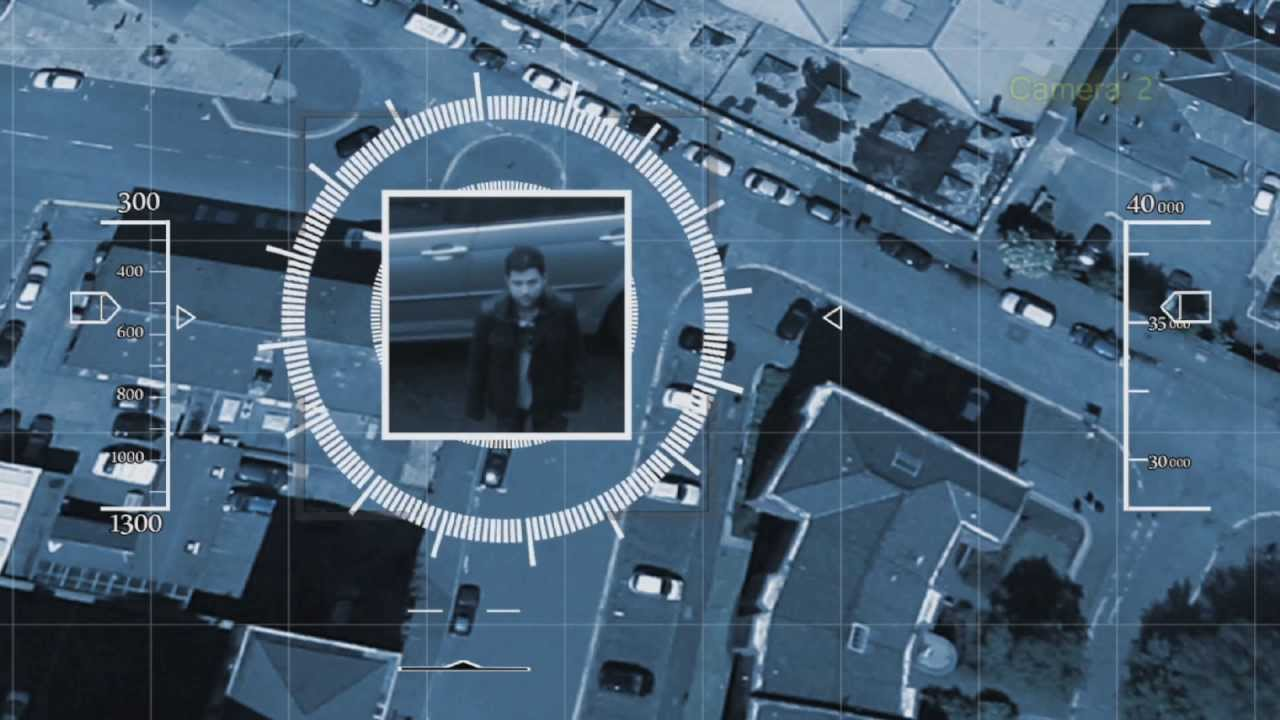car: (401, 17, 761, 117), (621, 560, 712, 608), (444, 578, 489, 652)
person: (455, 240, 601, 435)
